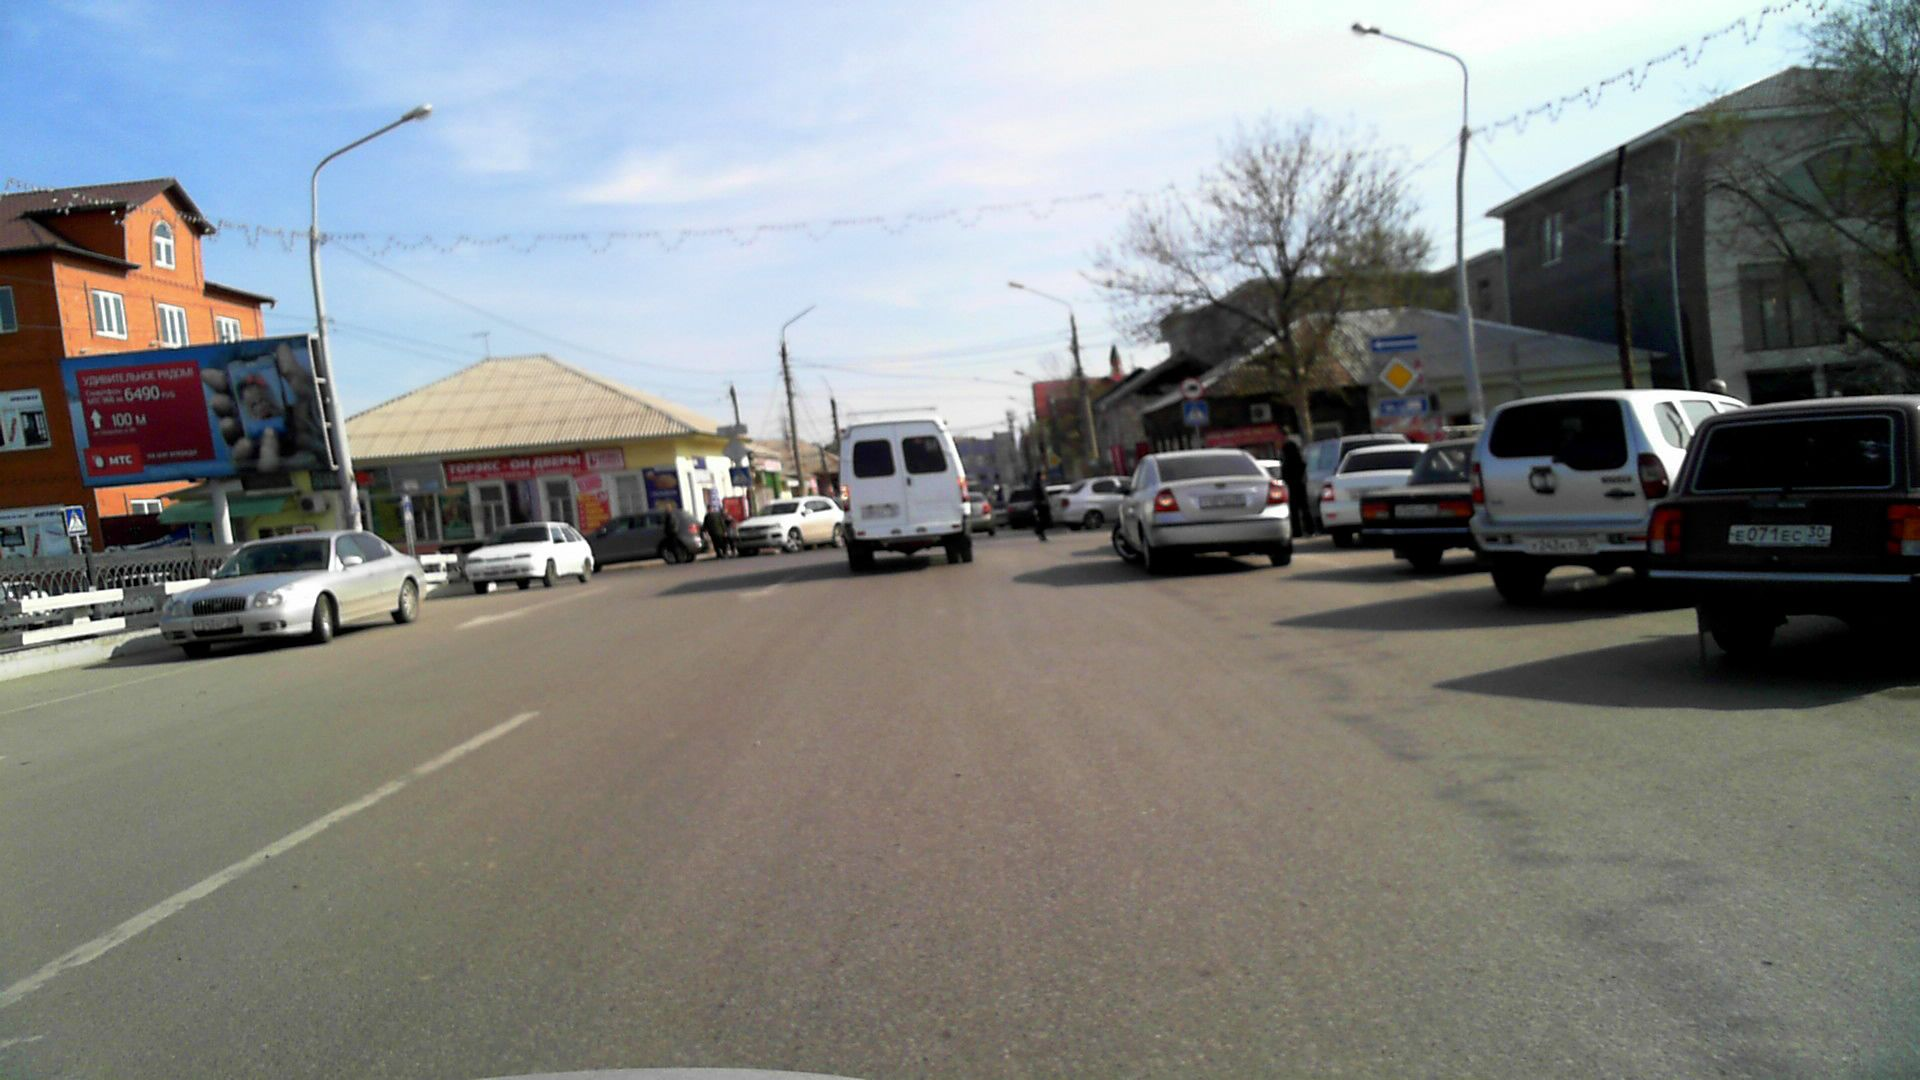One-Way Traffic: (1371, 335, 1418, 352)
